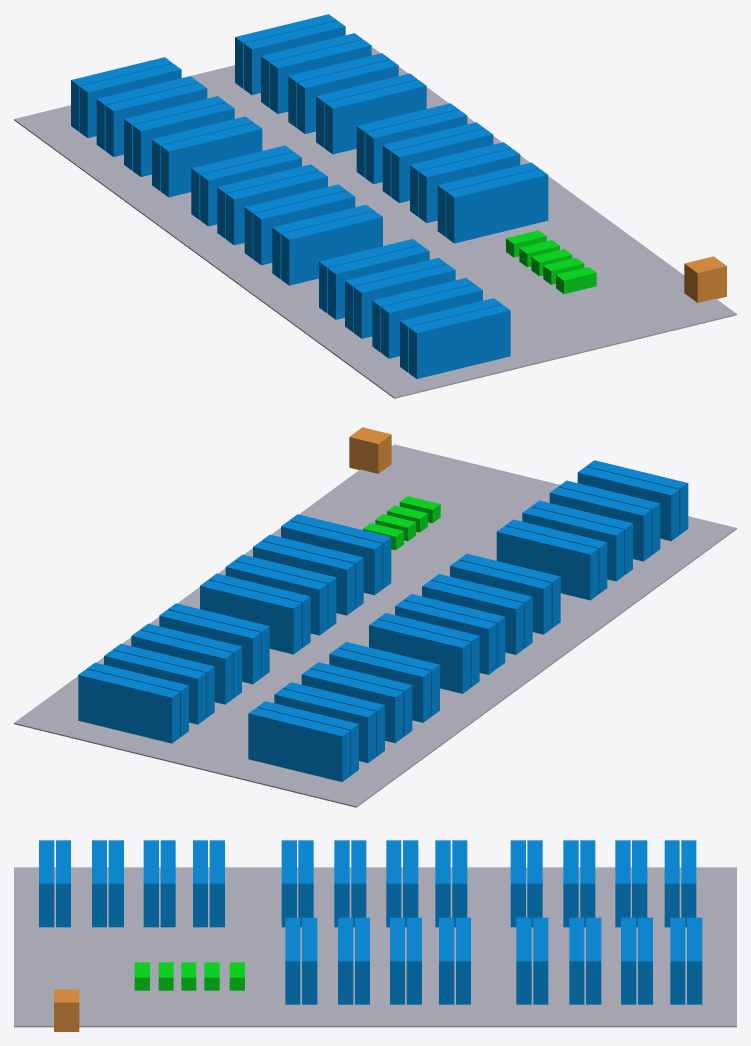
File: Naharn_3D.glb
3 renders of one model, top to bottom at view 1: azimuth 30°, elevation 25°; view 2: azimuth 150°, elevation 25°; view 3: azimuth 270°, elevation 25°, orthographic. The views are drawn at different scales.
Parts seen in each view (by area): view 1: Cube.001, Cube.021, Cube.003, Cube.012, Cube.020, Cube.013, Cube.011, Cube.005, Cube.014, Cube.022, Cube.019, Cube.015 (+11 smaller); view 2: Cube.001, Cube.016, Cube.017, Cube.007, Cube.024, Cube.008, Cube.003, Cube.012, Cube.021, Cube.013, Cube.020, Cube.005 (+11 smaller); view 3: Cube.001, Cube.020, Cube.006, Cube.017, Cube.019, Cube.021, Cube.003, Cube.005, Cube.007, Cube.018, Cube.022, Cube.023 (+11 smaller).
Boxes of the visible parts, left/top/right/bottom form: Cube.001: left=14, top=47, right=736, bottom=398; Cube.021: left=437, top=162, right=548, bottom=243; Cube.003: left=400, top=298, right=510, bottom=378; Cube.012: left=272, top=205, right=382, bottom=285; Cube.020: left=316, top=73, right=426, bottom=154; Cube.013: left=152, top=116, right=262, bottom=197; Cube.011: left=244, top=184, right=355, bottom=265; Cube.005: left=372, top=278, right=482, bottom=358; Cube.014: left=124, top=96, right=234, bottom=176; Cube.022: left=410, top=142, right=520, bottom=222; Cube.019: left=288, top=53, right=398, bottom=133; Cube.015: left=96, top=76, right=207, bottom=156; Cube.001: left=14, top=444, right=736, bottom=807; Cube.016: left=248, top=701, right=358, bottom=781; Cube.017: left=78, top=662, right=188, bottom=743; Cube.007: left=496, top=519, right=607, bottom=600; Cube.024: left=200, top=573, right=310, bottom=654; Cube.008: left=369, top=613, right=479, bottom=693; Cube.003: left=577, top=460, right=688, bottom=541; Cube.012: left=450, top=553, right=560, bottom=634; Cube.021: left=281, top=514, right=391, bottom=595; Cube.013: left=329, top=642, right=439, bottom=722; Cube.020: left=159, top=603, right=269, bottom=684; Cube.005: left=549, top=480, right=660, bottom=561; Cube.001: left=14, top=867, right=736, bottom=1027; Cube.020: left=516, top=917, right=548, bottom=1004; Cube.006: left=143, top=840, right=175, bottom=927; Cube.017: left=670, top=917, right=702, bottom=1004; Cube.019: left=569, top=917, right=601, bottom=1004; Cube.021: left=285, top=917, right=317, bottom=1004; Cube.003: left=39, top=840, right=70, bottom=927; Cube.005: left=92, top=840, right=123, bottom=927; Cube.007: left=193, top=840, right=224, bottom=927; Cube.018: left=621, top=917, right=652, bottom=1004; Cube.022: left=338, top=917, right=369, bottom=1004; Cube.023: left=390, top=917, right=421, bottom=1004.
Bounding box in the file's own units: 82.24 × 15.33 × 153.
